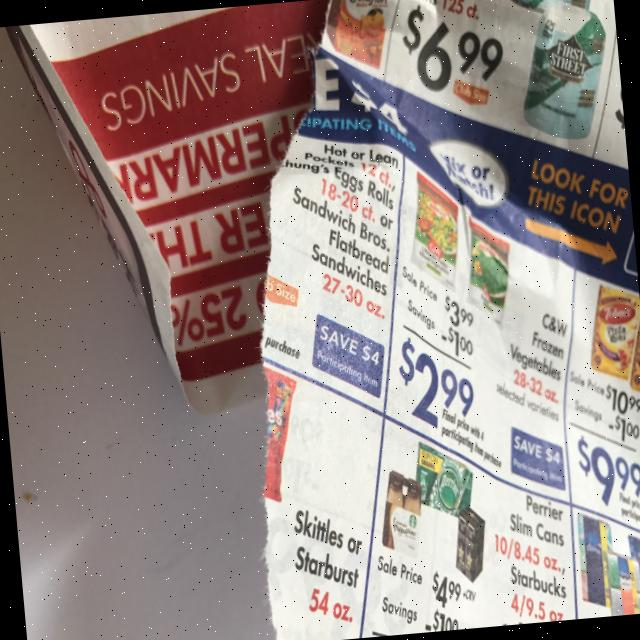paper: (215, 0, 640, 640)
